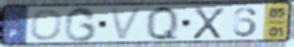6: (232, 6, 259, 38)
G: (62, 6, 98, 43)
O: (28, 8, 64, 42)
Q: (145, 4, 181, 42)
V: (108, 6, 145, 42)
X: (191, 5, 227, 40)
